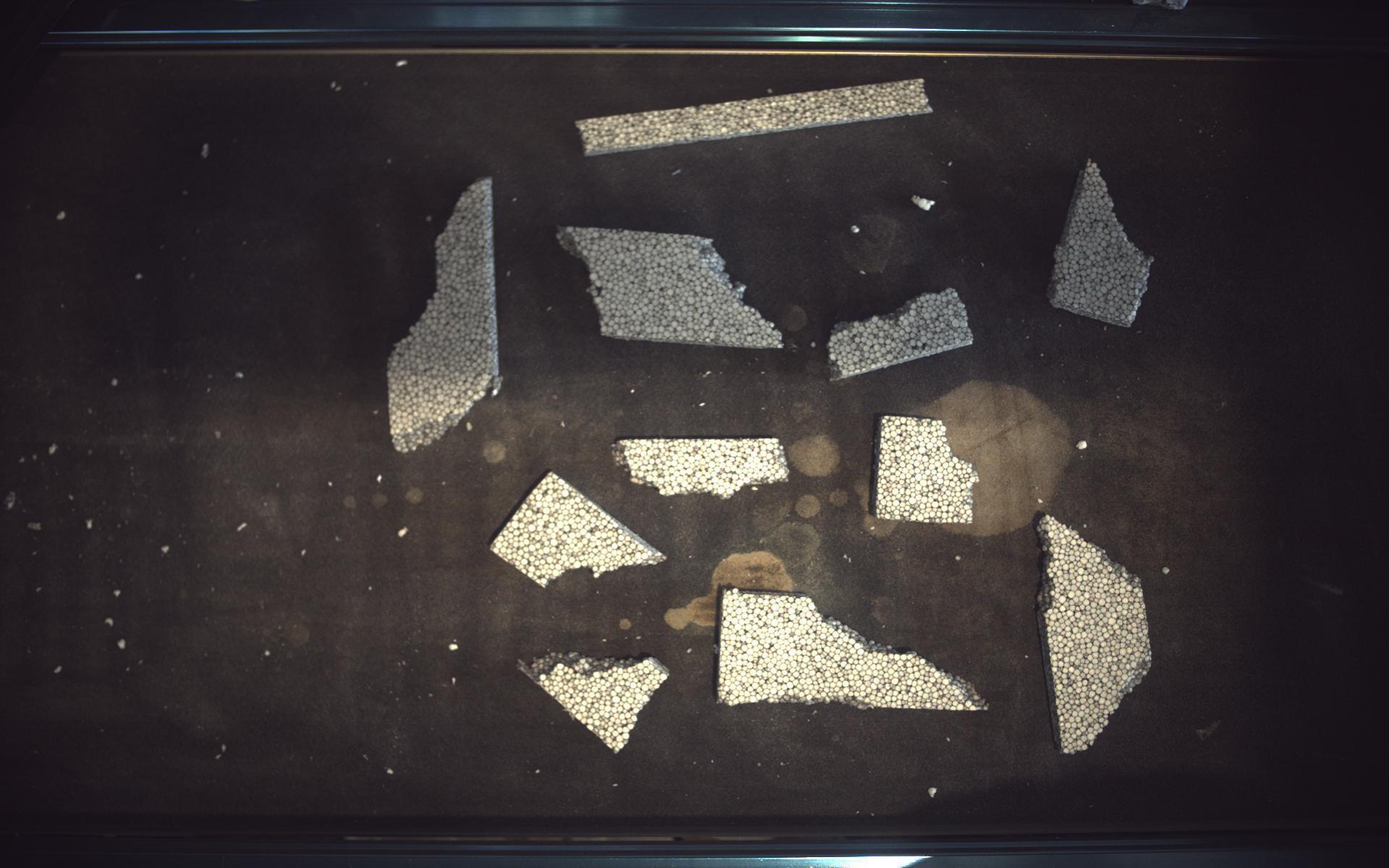foam: (719, 590, 987, 712), (388, 176, 501, 453), (577, 77, 934, 155), (558, 226, 784, 349), (1039, 516, 1154, 755), (491, 472, 666, 587), (1050, 158, 1156, 327), (518, 654, 669, 754), (830, 288, 975, 380), (875, 417, 980, 524), (615, 438, 790, 498)
